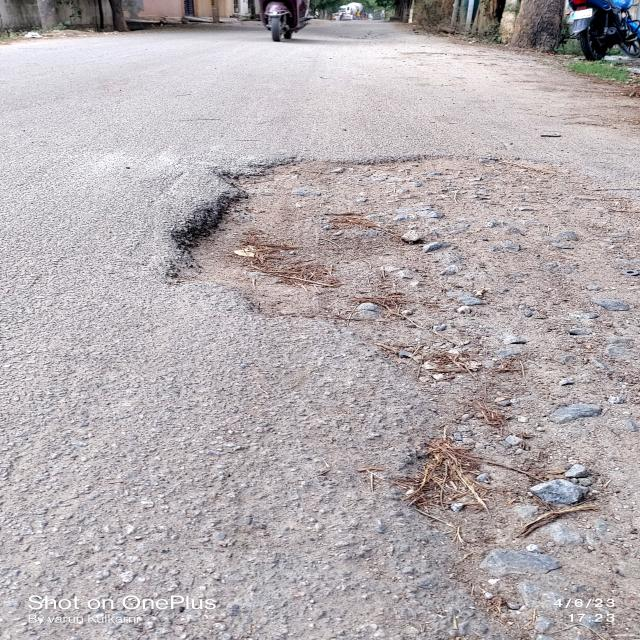potholes: (161, 137, 640, 534)
